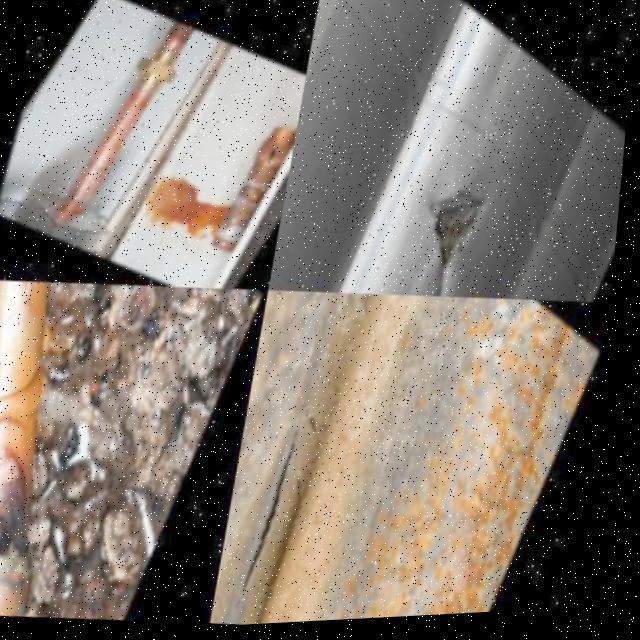crack: (241, 403, 311, 622)
hole: (393, 133, 505, 293)
rupture: (255, 130, 288, 169)
